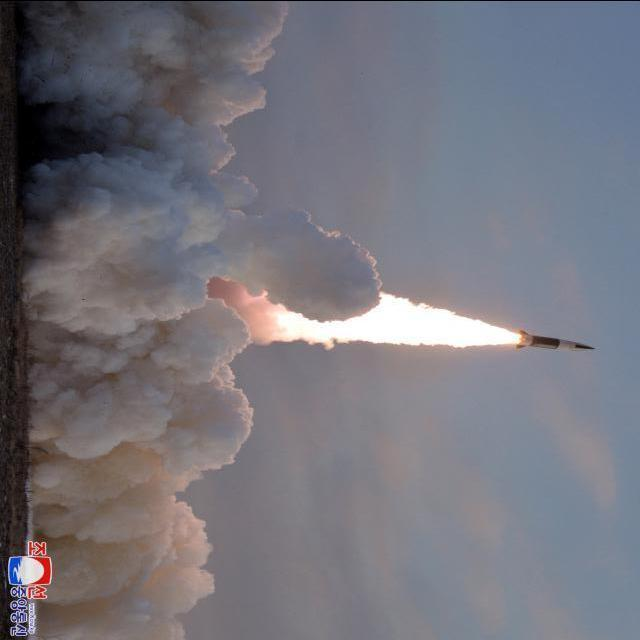missile: (514, 329, 595, 356)
